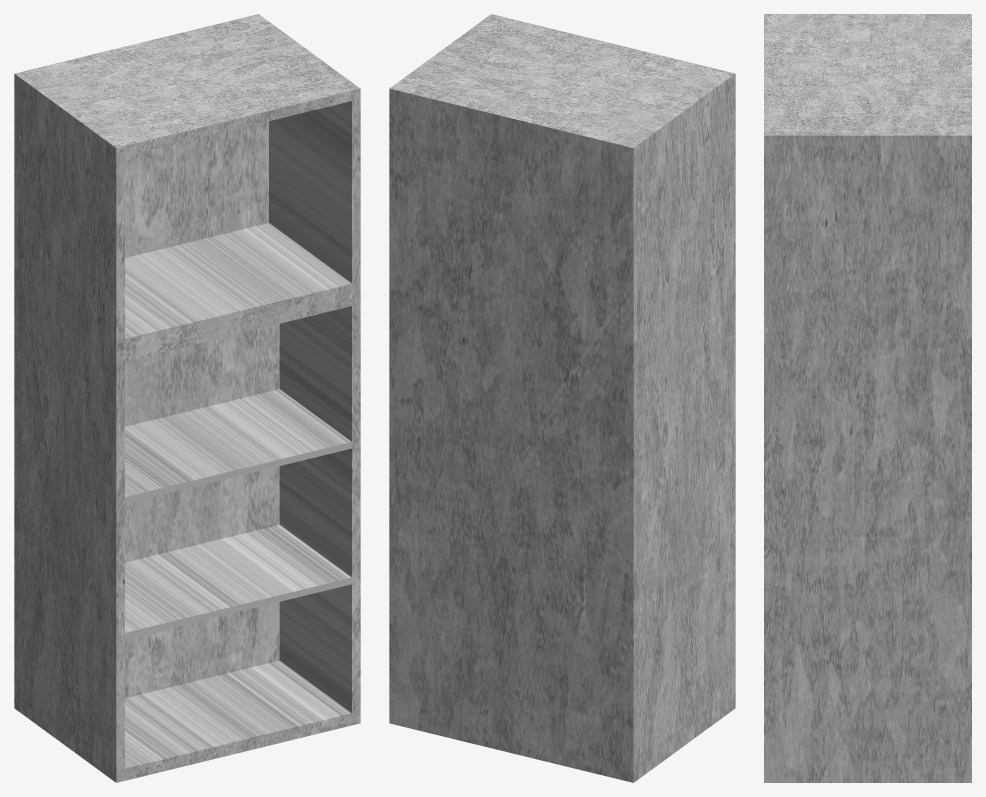
Rendered from kulkasisi.fbx.
3 views of the same model, side by side, from view 1: azimuth 30°, elevation 25°; view 2: azimuth 150°, elevation 25°; view 3: azimuth 270°, elevation 25° (orthographic).
Parts seen in each view (by area): view 1: Cube; view 2: Cube; view 3: Cube.
Boxes of the visible parts, <box> form: Cube: <box>14,14,360,782</box>; Cube: <box>389,14,735,782</box>; Cube: <box>764,14,971,782</box>.
Size of the model in its own units: 107 by 265 by 77.25.
